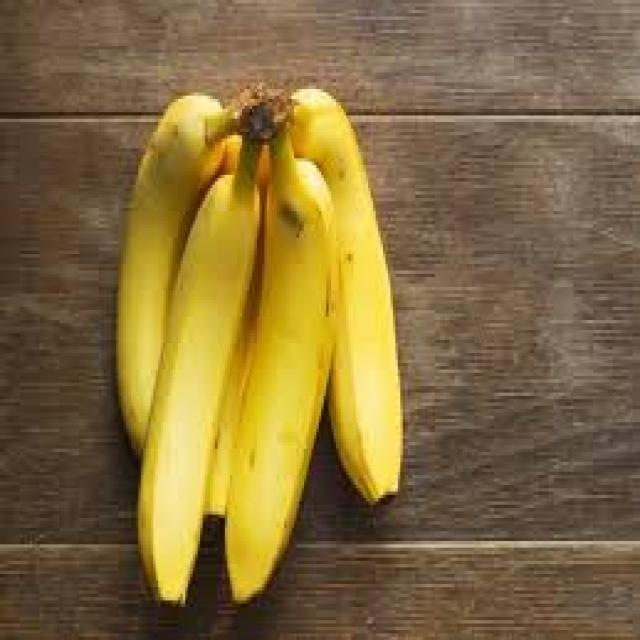Banana: (111, 86, 406, 609)
